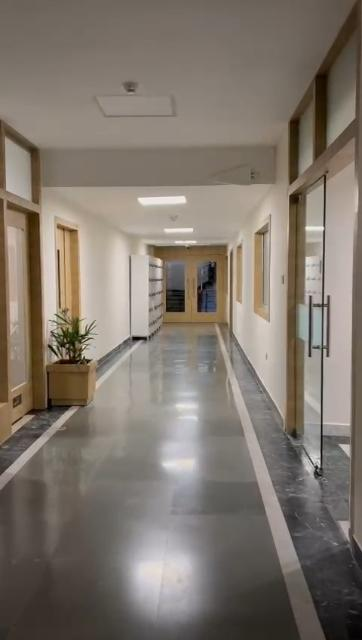door: (289, 97, 362, 457), (1, 125, 35, 422), (165, 248, 229, 324), (50, 221, 84, 319)
floor: (0, 325, 362, 640)
object: (46, 319, 101, 406)
wall: (92, 223, 132, 347), (268, 200, 286, 404), (242, 226, 252, 348)
